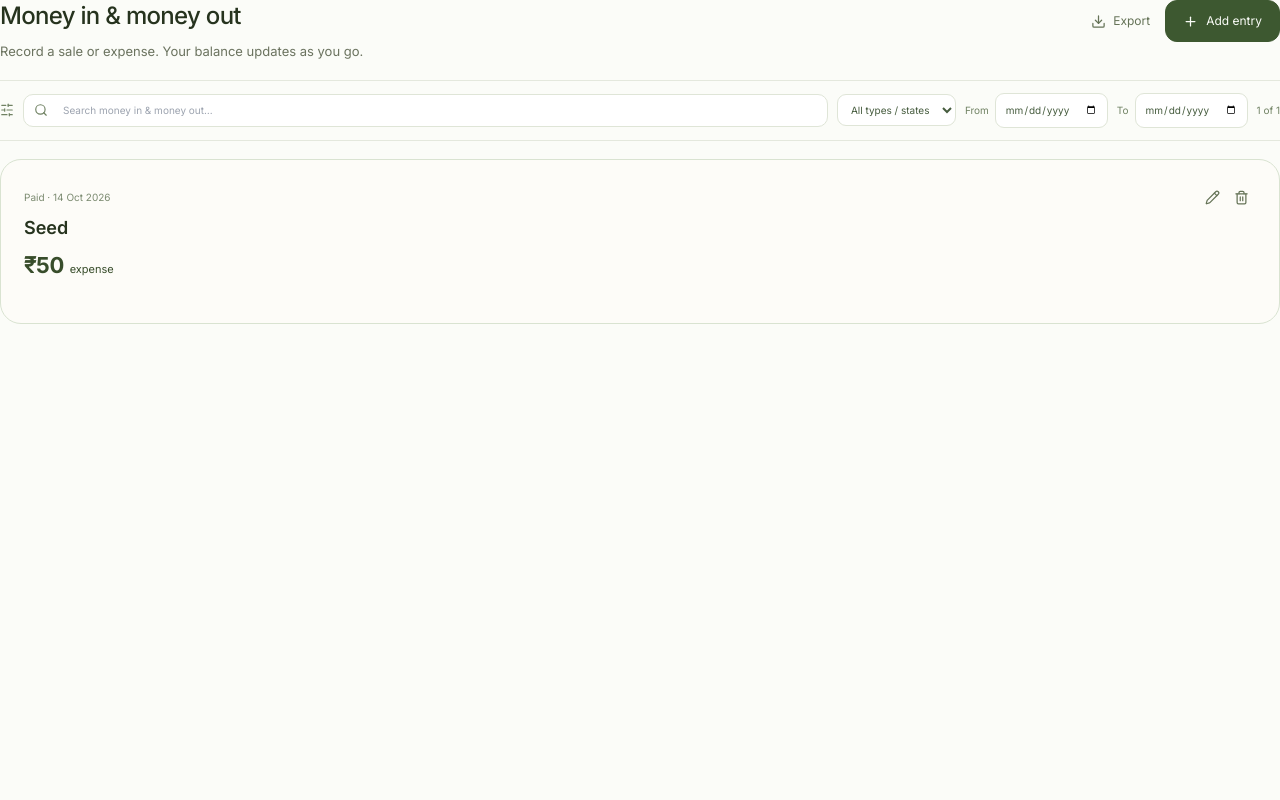
it: preserves editor and explains stale version conflicts
The width and height of the screenshot is (1280, 800).
Expected: the heading "Seed" is shown, top-left (24, 217), bottom-right (68, 238)
Click the button named "Edit Seed". click: (1212, 197)
box: top-left (1198, 183), bottom-right (1227, 212)
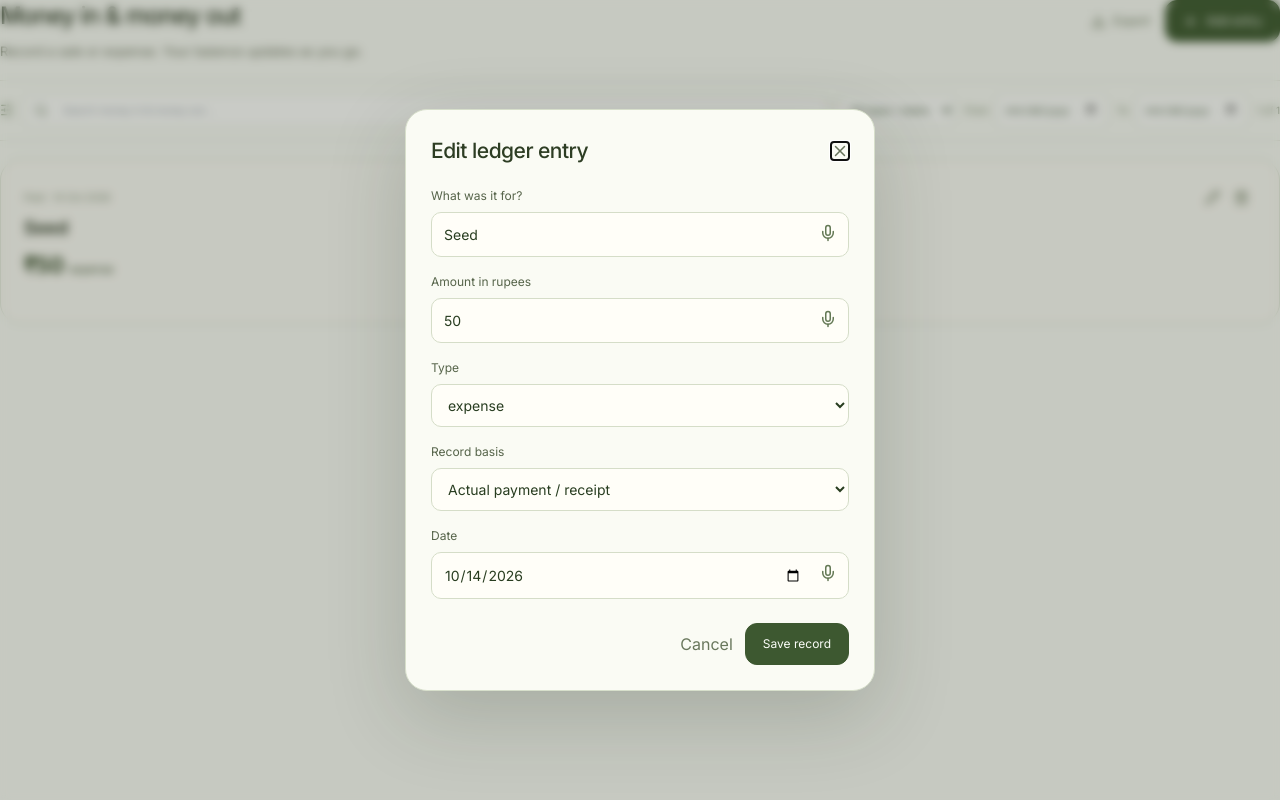
Click the button "Save record". click: (797, 644)
box: top-left (745, 623), bottom-right (849, 665)
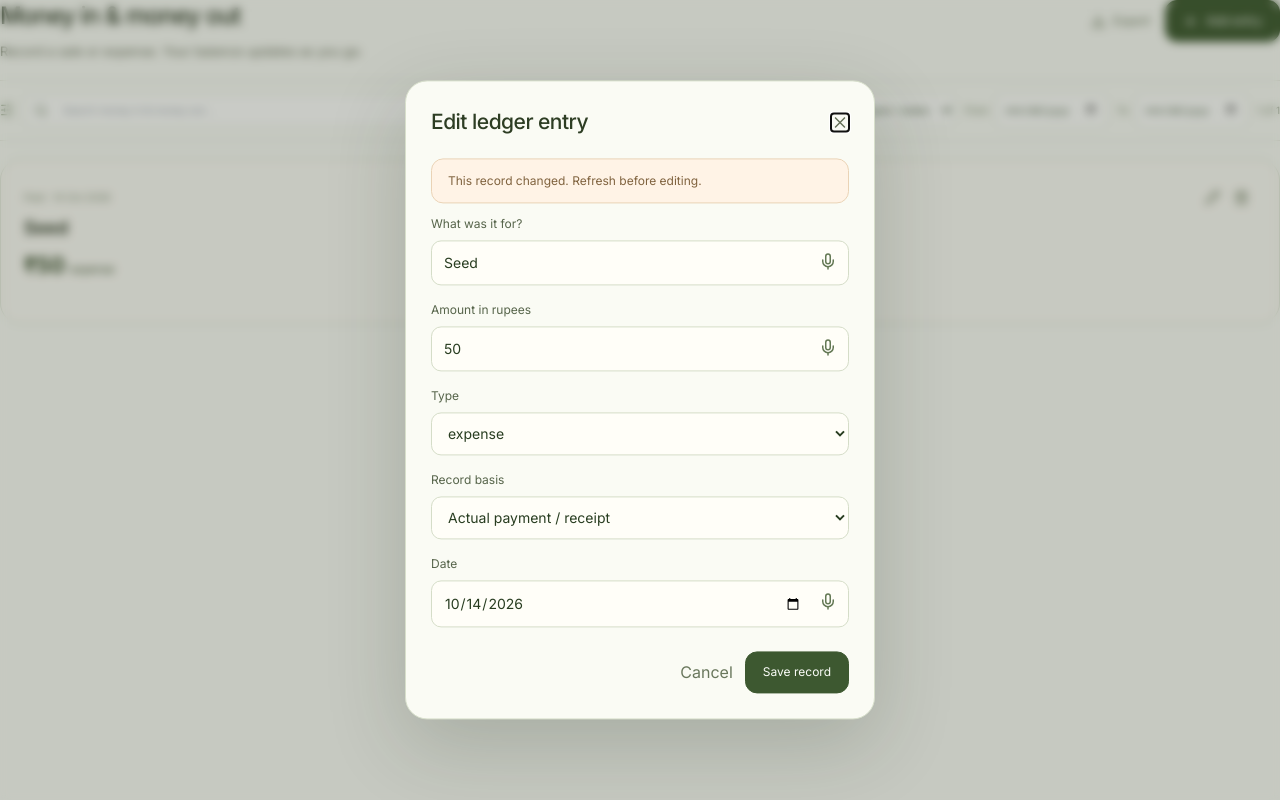
Now the dialog is shown, box top-left (405, 80), bottom-right (875, 720)
Now the message shows "Refresh before editing", box top-left (448, 173), bottom-right (702, 188)
